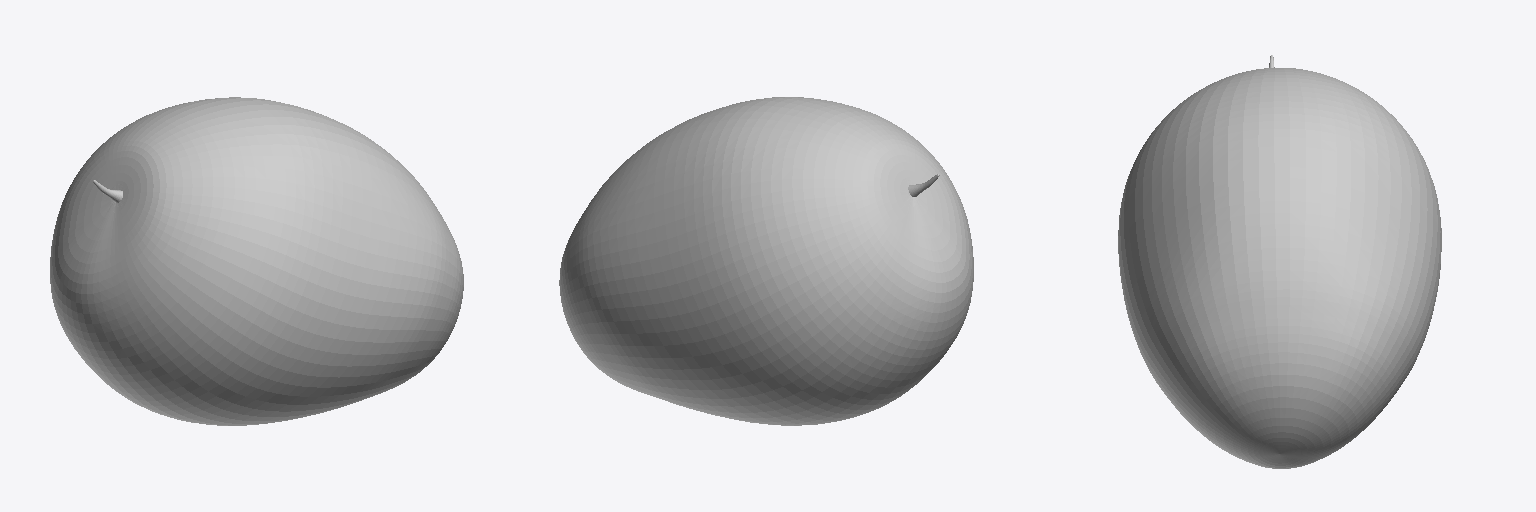
The model's file is mango.obj.
3 renders of one model, left to right at view 1: azimuth 30°, elevation 25°; view 2: azimuth 150°, elevation 25°; view 3: azimuth 270°, elevation 25°, orthographic.
Parts seen in each view (by area): view 1: leaf_Cube.002; view 2: leaf_Cube.002; view 3: leaf_Cube.002.
Part boxes in pixels (x1,y1,x2,y2): leaf_Cube.002: (50, 97, 463, 425); leaf_Cube.002: (559, 97, 973, 425); leaf_Cube.002: (1118, 55, 1441, 468).
Bounding box in the file's own units: 0.8064 × 0.613 × 0.5975.